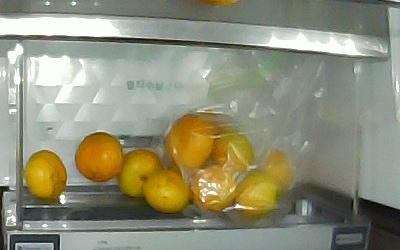tangerine: (76, 132, 127, 182), (119, 148, 164, 202), (26, 149, 67, 202), (145, 170, 190, 211)
tangerine_vinyl: (166, 114, 212, 171), (193, 165, 236, 211), (235, 171, 278, 217), (216, 131, 253, 171), (258, 146, 291, 189)
